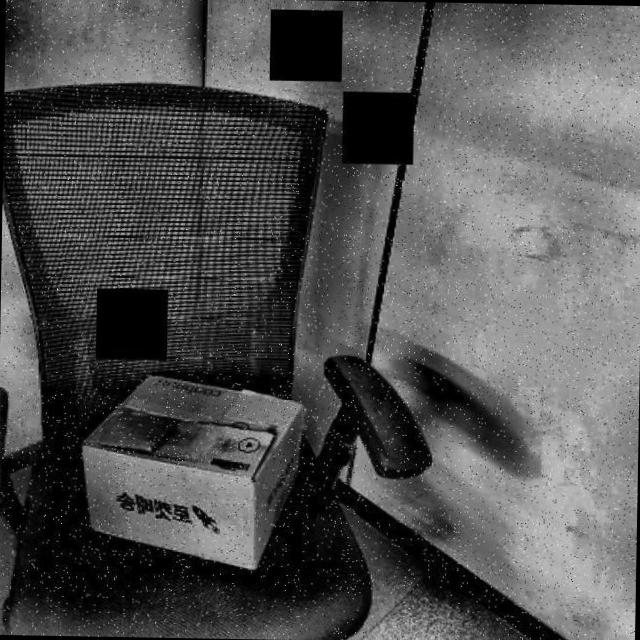box: (66, 369, 317, 578)
